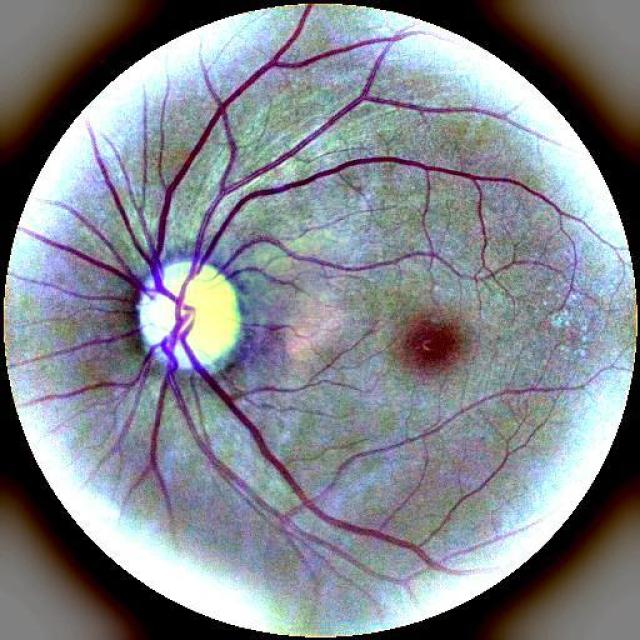Macula: (402, 316, 462, 374)
Nerves: (19, 4, 574, 578)
Optic Disk: (138, 260, 241, 372)
